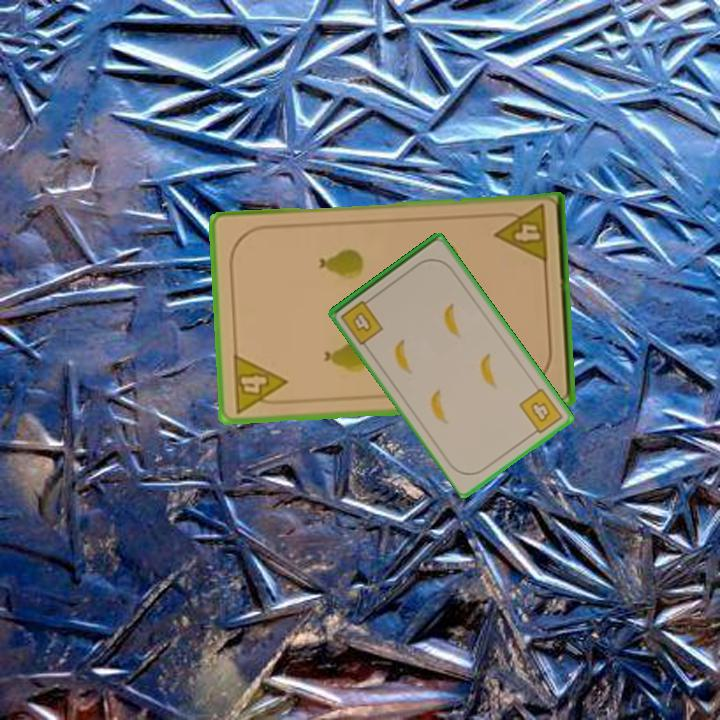4b: (516, 384, 566, 439), (337, 294, 386, 348)
4p: (229, 350, 290, 416), (491, 201, 551, 266)
